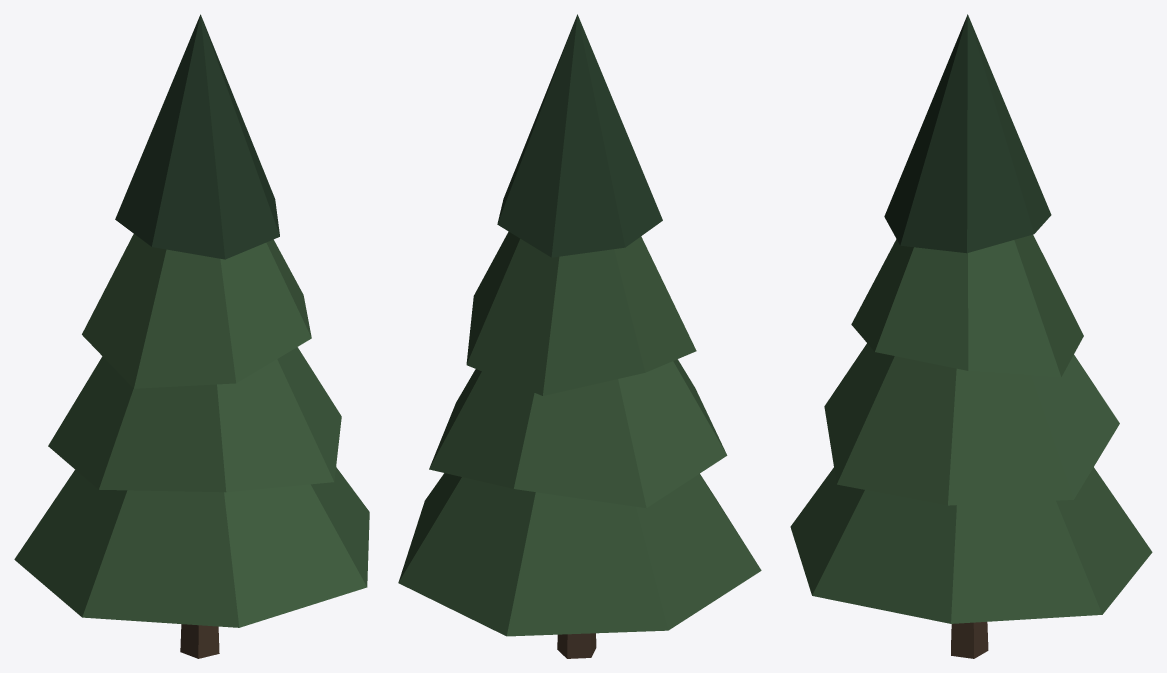
File: tree_spruce.glb
3 views of the same model, side by side, from view 1: azimuth 30°, elevation 25°; view 2: azimuth 150°, elevation 25°; view 3: azimuth 270°, elevation 25° (orthographic).
Parts seen in each view (by area): view 1: spruce_crown, spruce_trunk; view 2: spruce_crown, spruce_trunk; view 3: spruce_crown, spruce_trunk.
Boxes of the visible parts, x1,y1,x2,y2 form: spruce_crown: (14,14,369,627); spruce_trunk: (180,624,219,658); spruce_crown: (398,14,761,636); spruce_trunk: (557,633,596,658); spruce_crown: (790,14,1152,623); spruce_trunk: (951,622,988,658).
Size of the model in its own units: 3.71 by 7.23 by 3.73.
